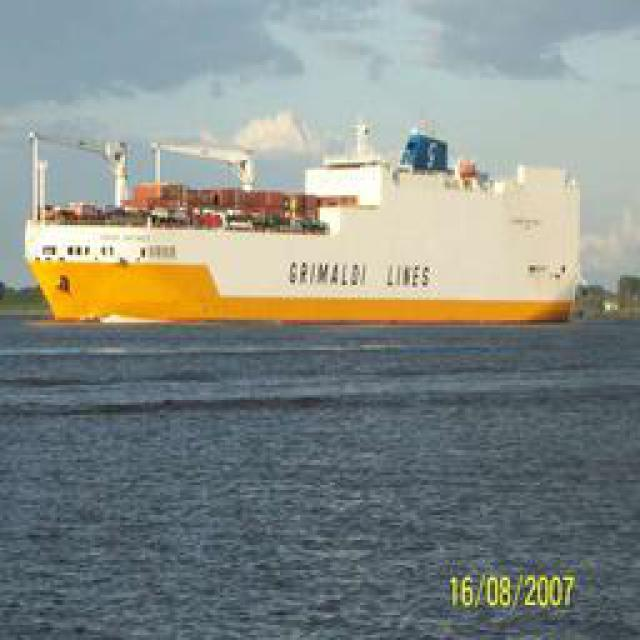Ship: (33, 126, 581, 331)
